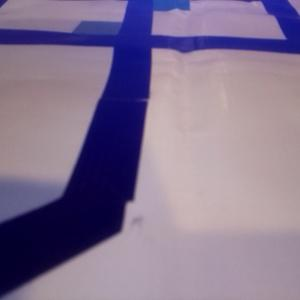bottom_right: (128, 1, 190, 11)
top_left: (72, 21, 151, 46)
